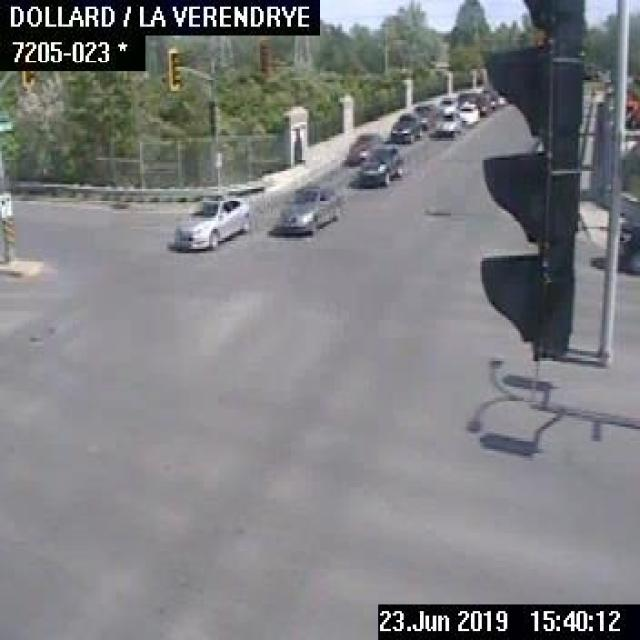vehicle: (171, 191, 253, 253), (275, 178, 347, 233), (351, 143, 402, 185), (613, 209, 638, 278), (346, 130, 386, 164), (388, 112, 422, 144), (431, 104, 459, 137), (457, 101, 480, 125), (412, 105, 430, 130)
